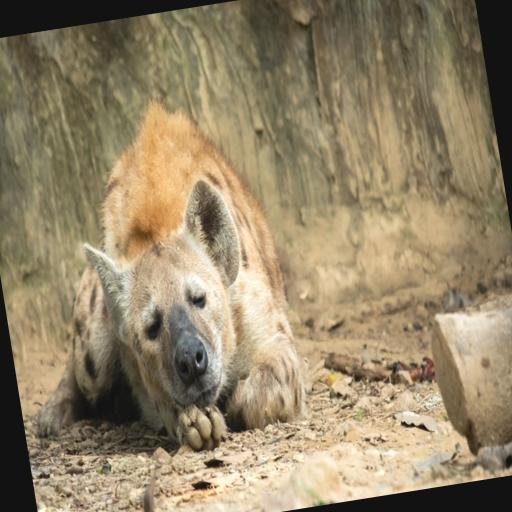hyenas: (0, 79, 308, 494)
